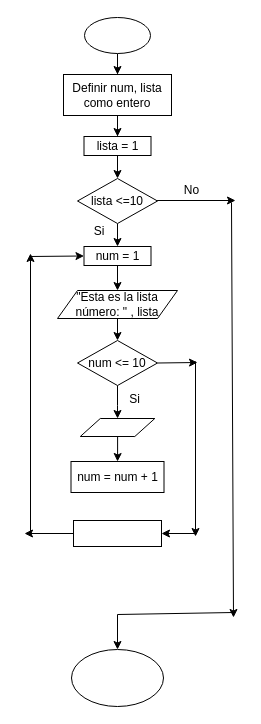
Some shapes in this 261 by 724 pixel diagram are drawn without their labels. The shapes that lost their labels are listed below. From the top down, each one's centre as x and y in pixels, then its label:
At (117,35): "Inicio".
At (117,427): "num".
At (117,533): "lista = lista + 1".
At (117,677): "Fin".
